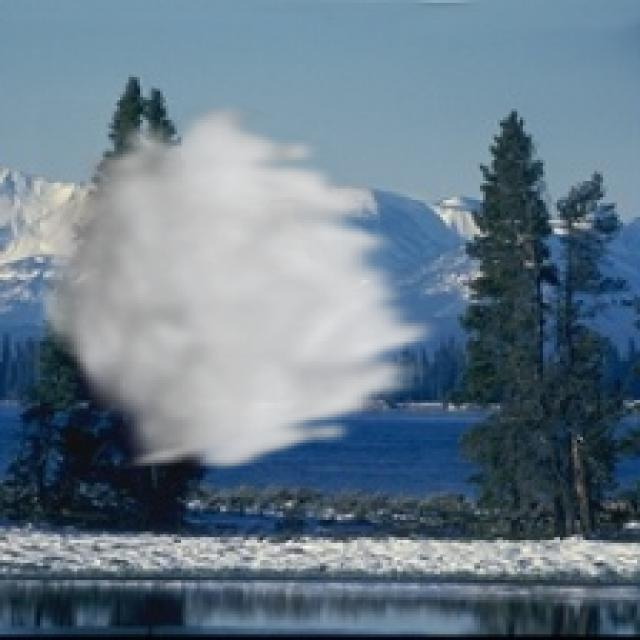smoke: (29, 100, 452, 474)
